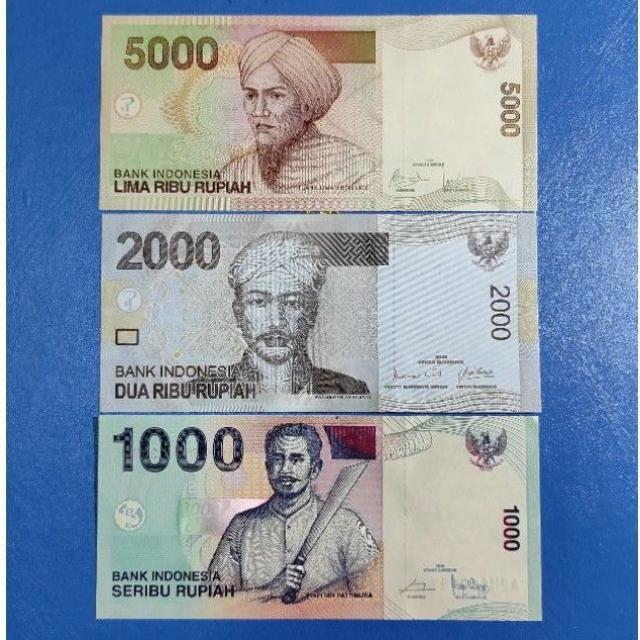dua ribu rupiah: (103, 212, 542, 414)
lima ribu rupiah: (93, 3, 540, 212)
seribu rupiah: (97, 414, 552, 626)
